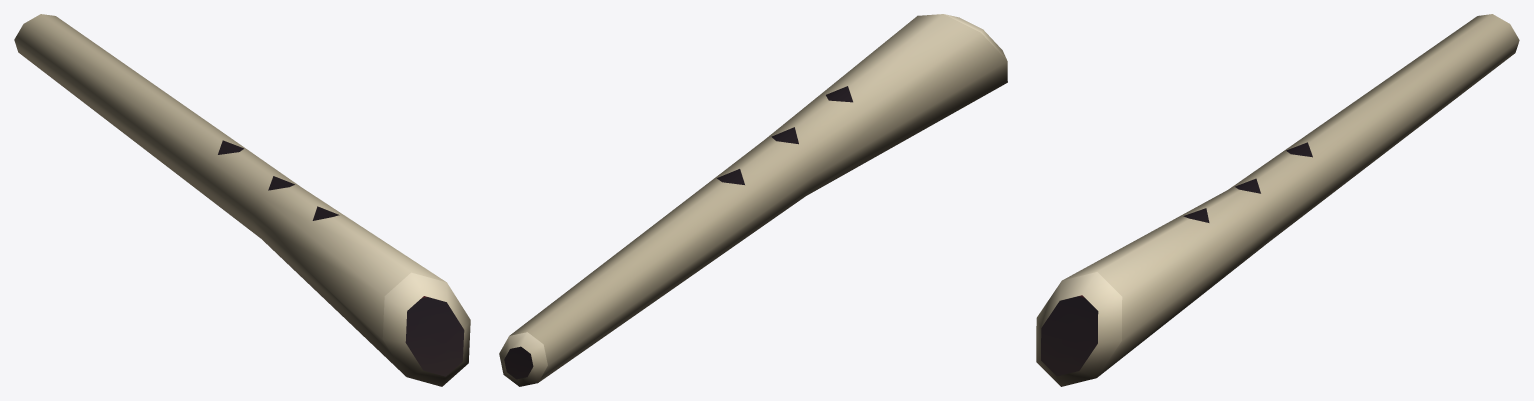
The model's file is Flute_1B.fbx.
3 renders of one model, left to right at view 1: azimuth 30°, elevation 25°; view 2: azimuth 150°, elevation 25°; view 3: azimuth 330°, elevation 25°, orthographic. The views are drawn at different scales.
Visible parts, largest first — view 1: Flute_1B; view 2: Flute_1B; view 3: Flute_1B.
Boxes of the visible parts, <box> form: Flute_1B: <box>14,14,470,386</box>; Flute_1B: <box>499,14,1007,386</box>; Flute_1B: <box>1036,14,1519,386</box>.
Size of the model in its own units: 6.09 by 6.06 by 52.4.
